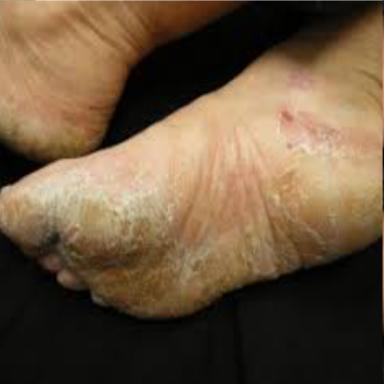eczema: (0, 110, 384, 317), (0, 106, 98, 159)
